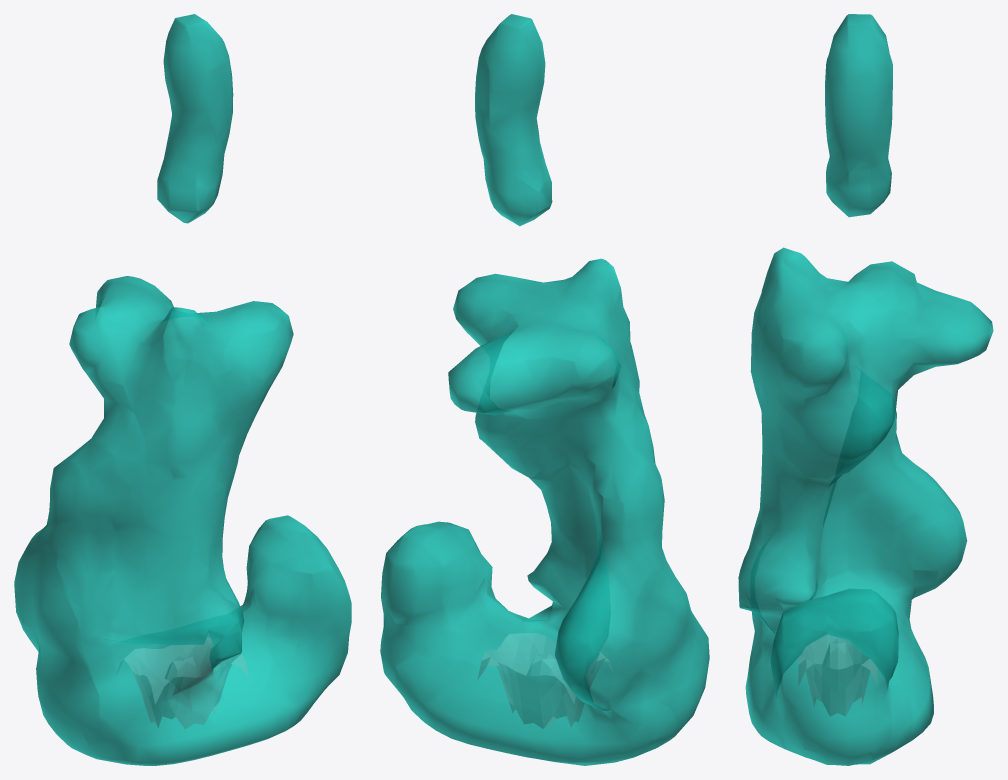
3 renders of one model, left to right at view 1: azimuth 30°, elevation 25°; view 2: azimuth 150°, elevation 25°; view 3: azimuth 270°, elevation 25°, orthographic. The views are drawn at different scales.
Visible parts, largest first — view 1: Liquid_Domain, グリッド; view 2: Liquid_Domain, グリッド; view 3: Liquid_Domain, グリッド.
Part boxes in pixels (box(x1,y1,x2,y2)): Liquid_Domain: box(14, 14, 351, 765); グリッド: box(117, 637, 249, 728); Liquid_Domain: box(380, 14, 709, 765); グリッド: box(478, 633, 612, 728); Liquid_Domain: box(738, 14, 993, 765); グリッド: box(798, 635, 876, 716).
Bounding box in the file's own units: 1.29 × 2.97 × 0.9694.
